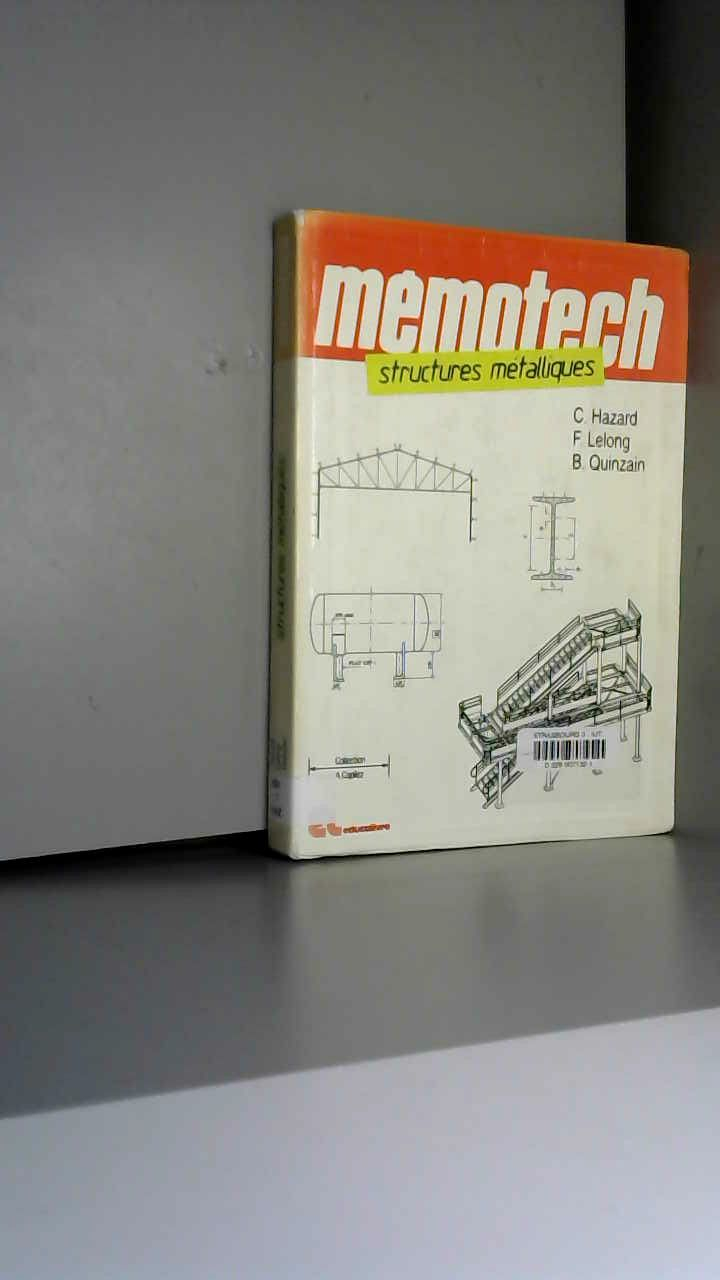book: (230, 180, 715, 939)
